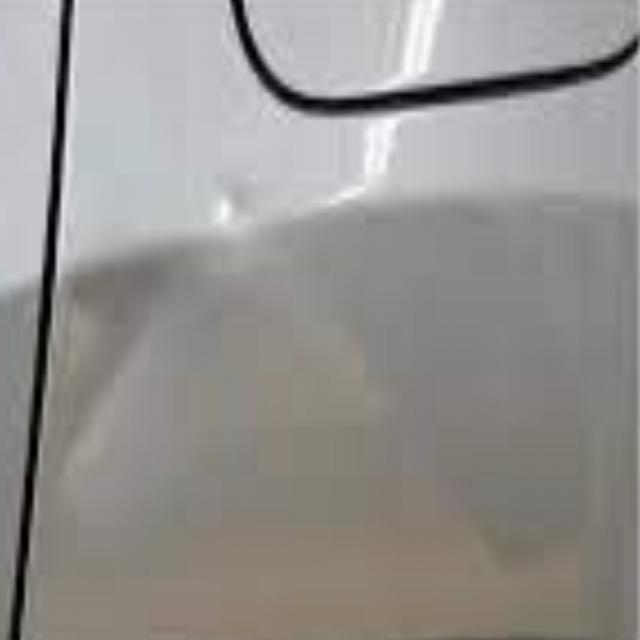dents: (57, 249, 172, 459), (200, 162, 266, 245)
